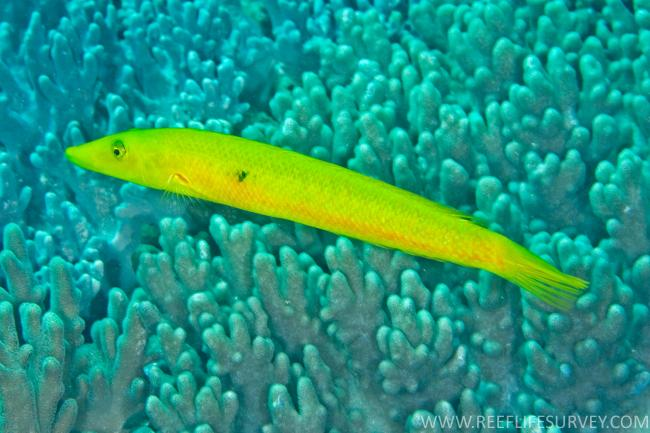fish: (66, 127, 591, 311)
